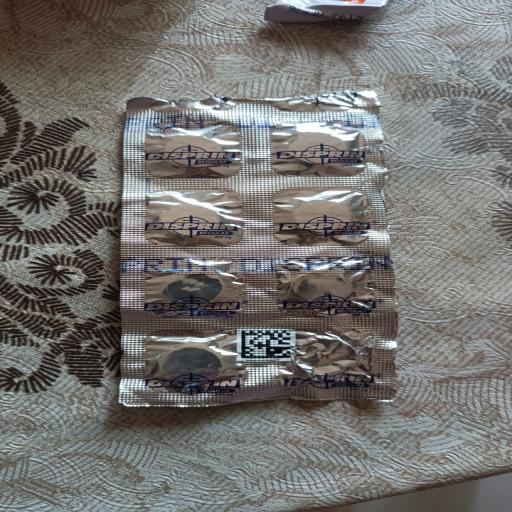disprin: (94, 86, 410, 422)
